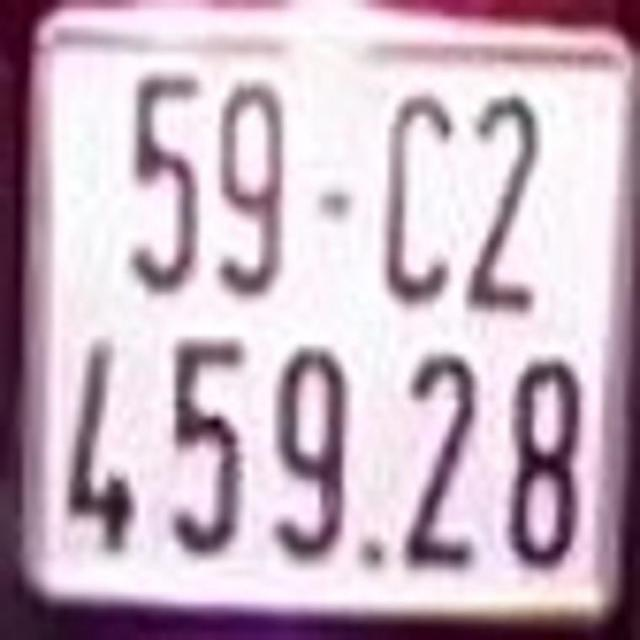2: (405, 351, 485, 571), (469, 93, 539, 314)
4: (66, 332, 138, 559)
5: (165, 332, 244, 559), (130, 68, 203, 295)
8: (509, 356, 582, 574)
9: (270, 342, 350, 564), (216, 79, 284, 296)
C: (380, 87, 456, 307)
